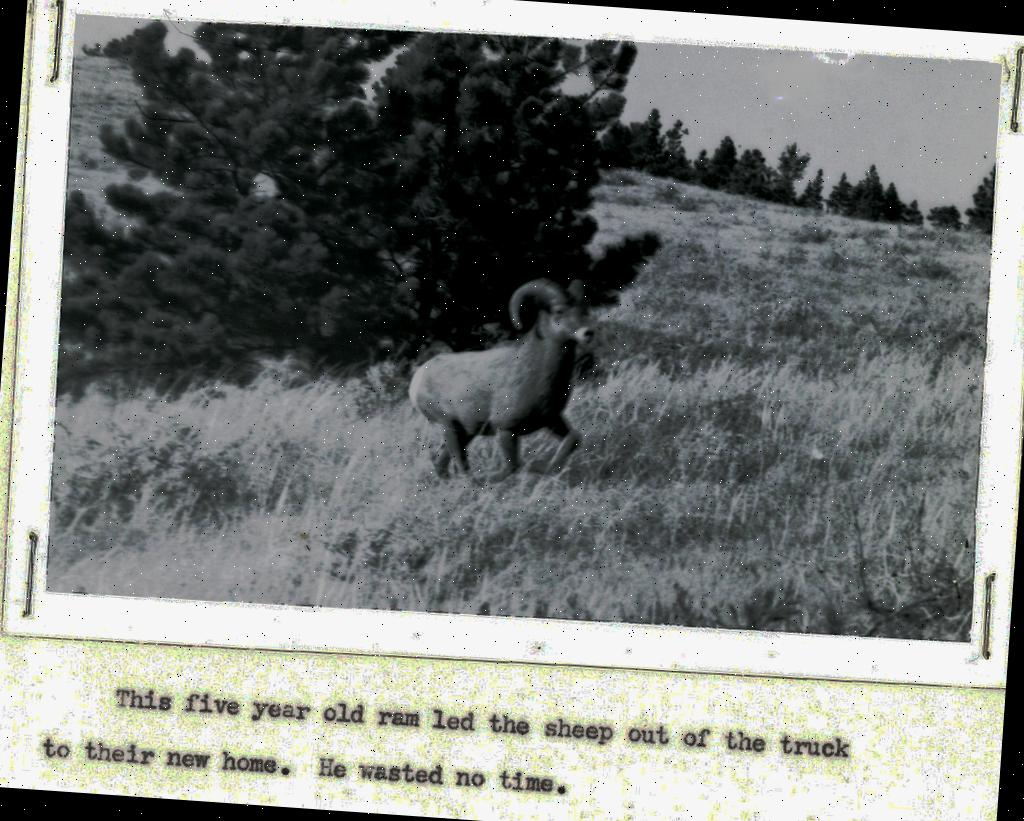Sheep: (386, 266, 614, 496)
